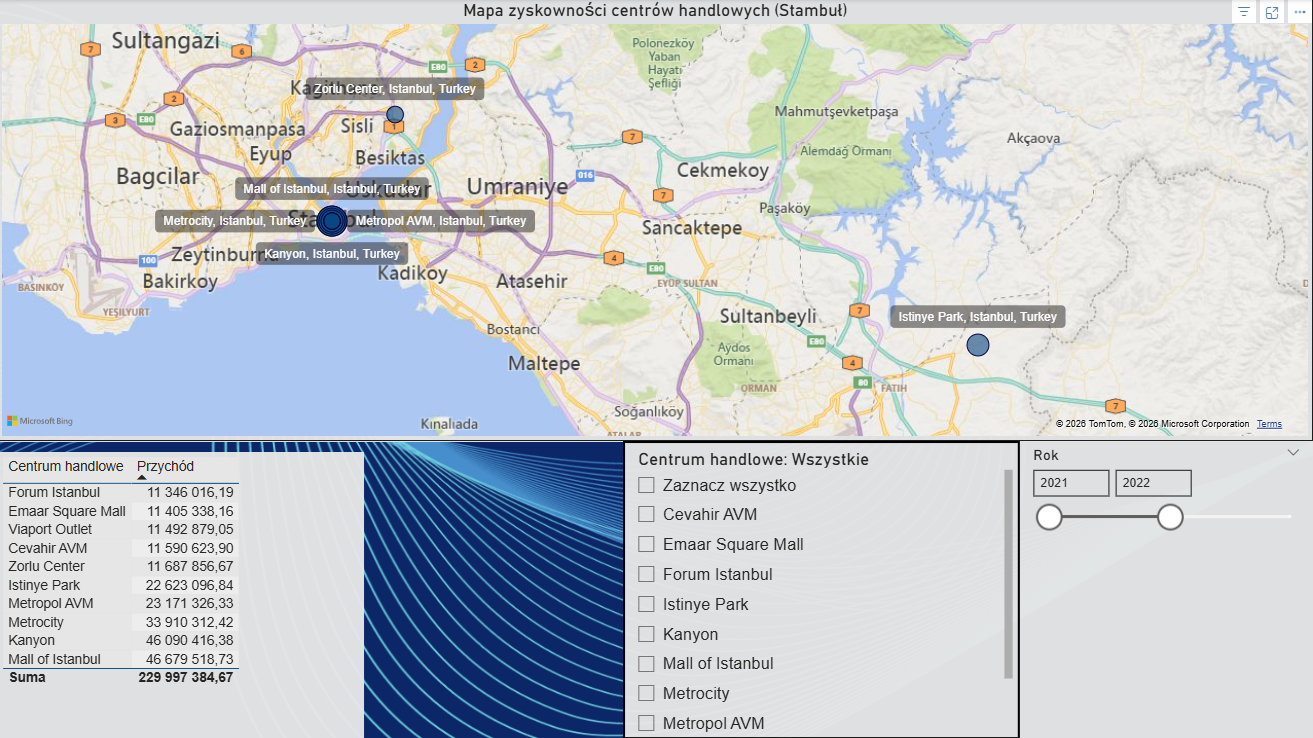

This screenshot's page, from the dashboard's own definition file:
{"tool":"powerbi","page":{"name":"Gdzie sprzedajemy najwięcej?","canvas":[1280,720],"ordinal":4},"visuals":[{"type":"map","title":"Mapa zyskowności centrów handlowych (Stambuł)","fields":{"Size":["Sum(customer_shopping_data.Przychód)"],"Category":["customer_shopping_data.Lokalizacja"]},"box":[0,0,1280,429.9],"z":0},{"type":"slicer","fields":{"Values":["customer_shopping_data.invoice_date.Odmiana.Hierarchia dat.Rok"]},"box":[995,429.9,285,289.8],"z":1000},{"type":"tableEx","fields":{"Values":["customer_shopping_data.shopping_mall","Sum(customer_shopping_data.Przychód)"]},"box":[0,440.6,357,279.1],"z":2000},{"type":"slicer","fields":{"Values":["customer_shopping_data.shopping_mall"]},"box":[608.9,429.9,386.1,289.8],"z":3000}]}

Visuals, with their boxes in screenshot pixels (x1, y1, x2, y2), scaled from the page's 1280x720 canvas onto the 1313x738 screenshot:
"Mapa zyskowności centrów handlowych (Stambuł)" map: (left=0, top=0, right=1312, bottom=441)
slicer - customer_shopping_data.invoice_date.Odmiana.Hierarchia dat.Rok: (left=1021, top=441, right=1312, bottom=737)
tableEx - customer_shopping_data.shopping_mall x Sum(customer_shopping_data.Przychód): (left=0, top=452, right=366, bottom=737)
slicer - customer_shopping_data.shopping_mall: (left=625, top=441, right=1021, bottom=737)
